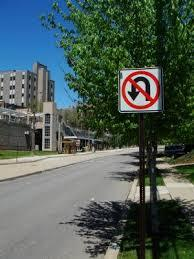no_u_turn: (120, 69, 160, 108)
